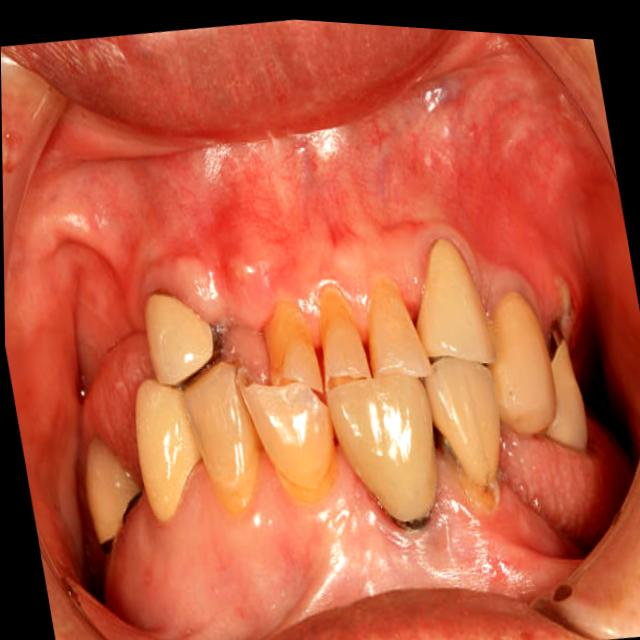calculus: (265, 303, 312, 379), (208, 445, 260, 512), (281, 452, 338, 506), (455, 461, 501, 515), (320, 291, 357, 335), (368, 280, 406, 310), (395, 514, 431, 531), (124, 492, 143, 524), (104, 545, 110, 554)
gingivitis: (127, 218, 535, 316)
